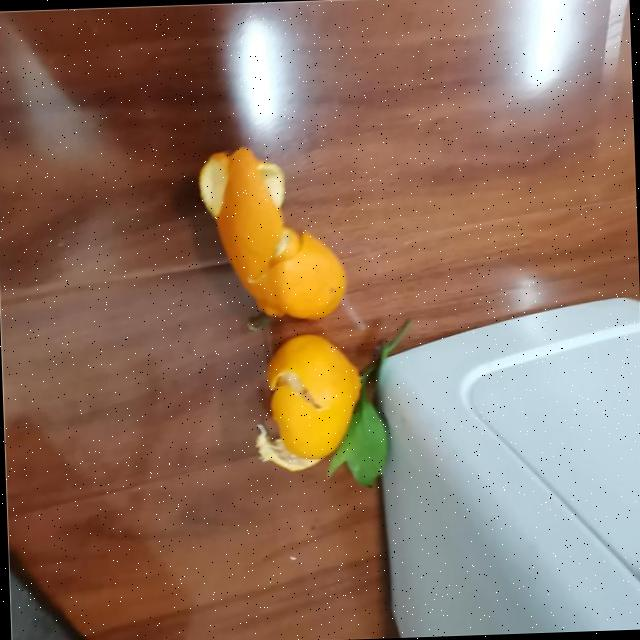orange-peel: (196, 141, 348, 323), (262, 331, 364, 460)
